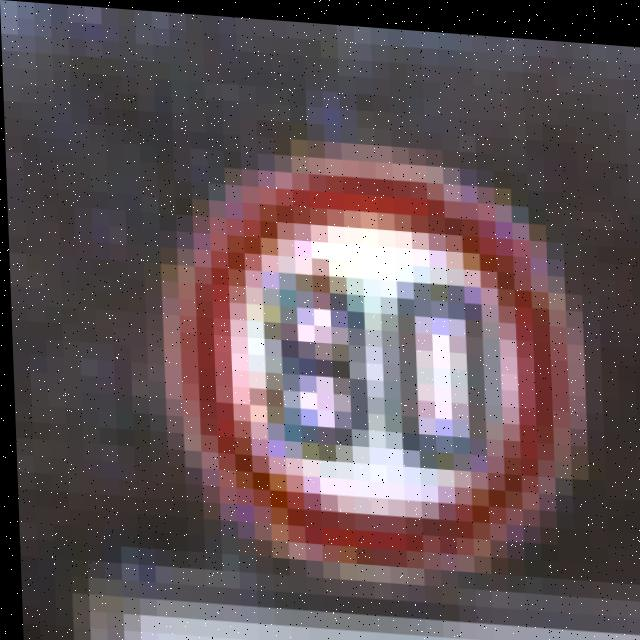speed_limit_80: (154, 118, 624, 611)
